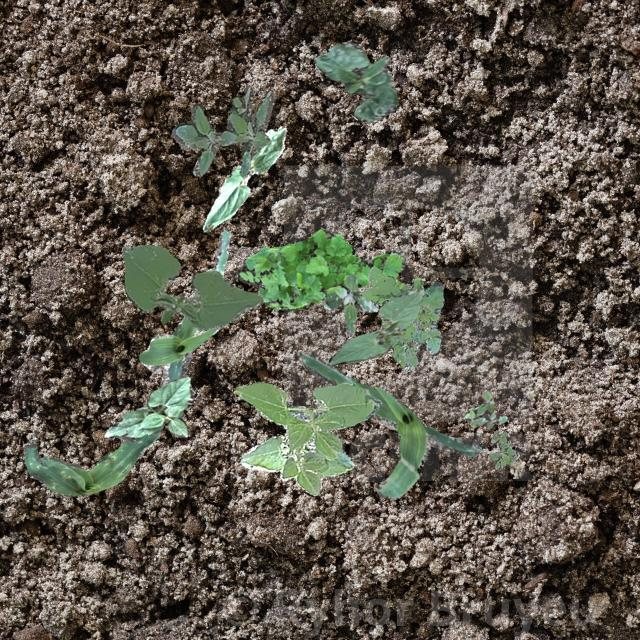crop: (300, 352, 480, 498), (233, 380, 379, 494), (138, 228, 230, 406), (120, 244, 262, 330), (202, 126, 284, 232), (23, 431, 158, 495), (328, 287, 422, 363), (316, 40, 396, 121), (104, 374, 192, 440)
weed: (235, 228, 406, 308), (170, 85, 272, 176), (360, 266, 442, 370), (322, 274, 378, 334), (462, 388, 506, 428), (488, 431, 518, 468)
